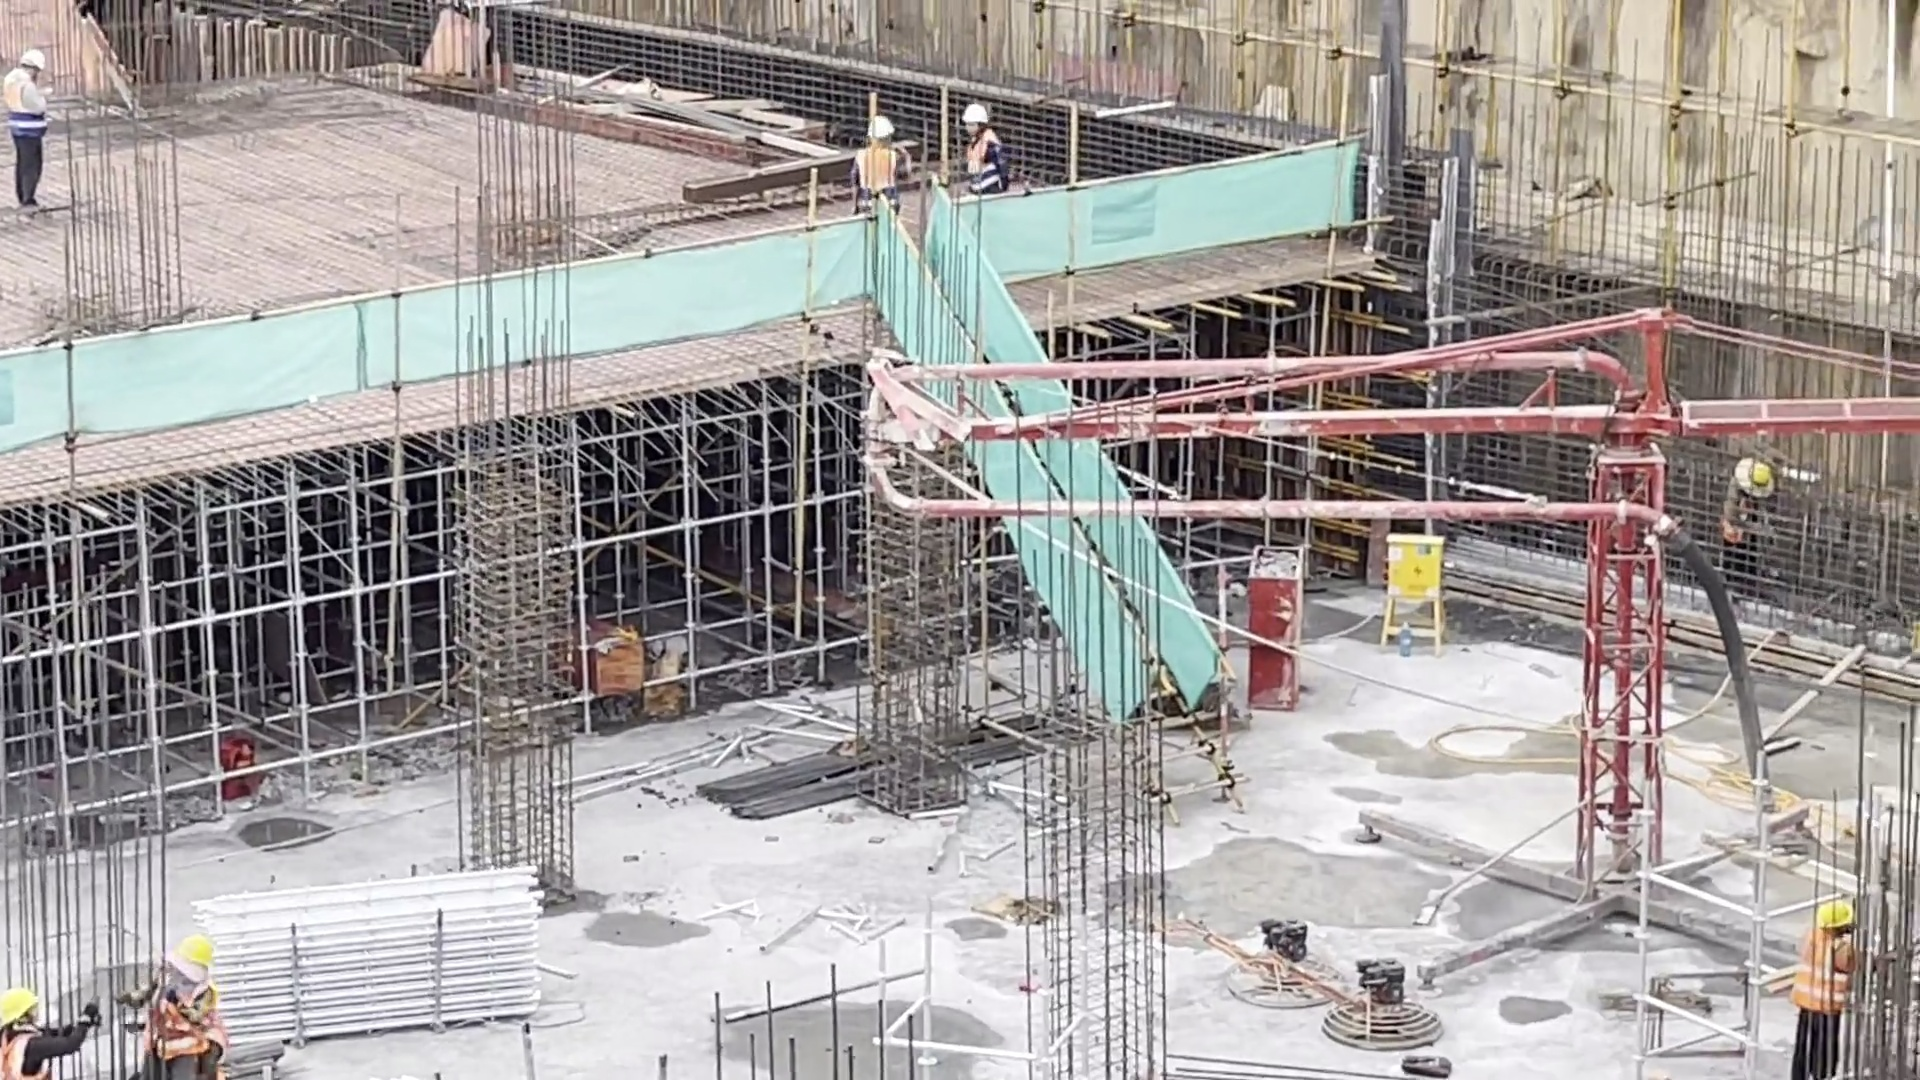ebox: (1385, 536, 1455, 609)
helmet: (1732, 454, 1781, 505), (172, 927, 220, 974), (1822, 887, 1854, 930), (3, 990, 38, 1021), (859, 115, 899, 137), (19, 51, 51, 73), (967, 103, 995, 123)
person: (1783, 875, 1858, 1077), (141, 947, 233, 1080), (2, 977, 103, 1080), (1716, 454, 1781, 594), (6, 41, 56, 222), (845, 82, 906, 212), (956, 92, 1025, 195)
scaffold: (212, 874, 550, 1035)
vest: (145, 981, 229, 1065), (1799, 933, 1851, 1019), (5, 77, 56, 136), (965, 136, 1014, 190), (855, 149, 906, 196), (12, 1037, 54, 1078)
